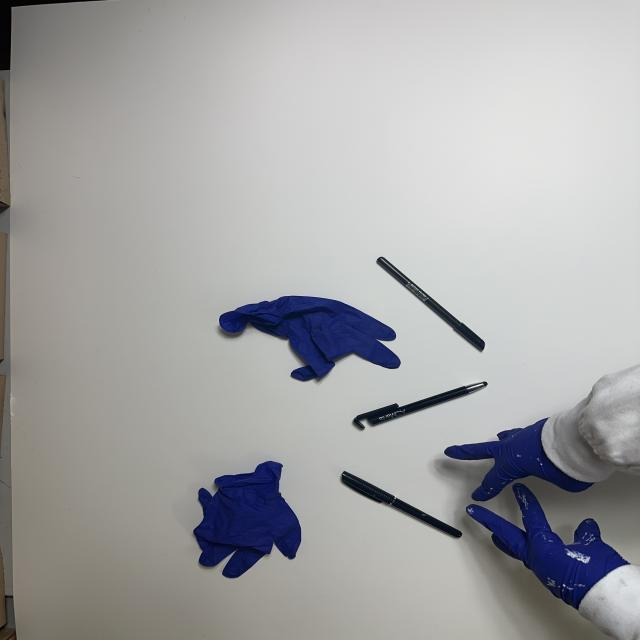gloves_contaminated: (467, 484, 629, 609), (444, 419, 592, 501)
